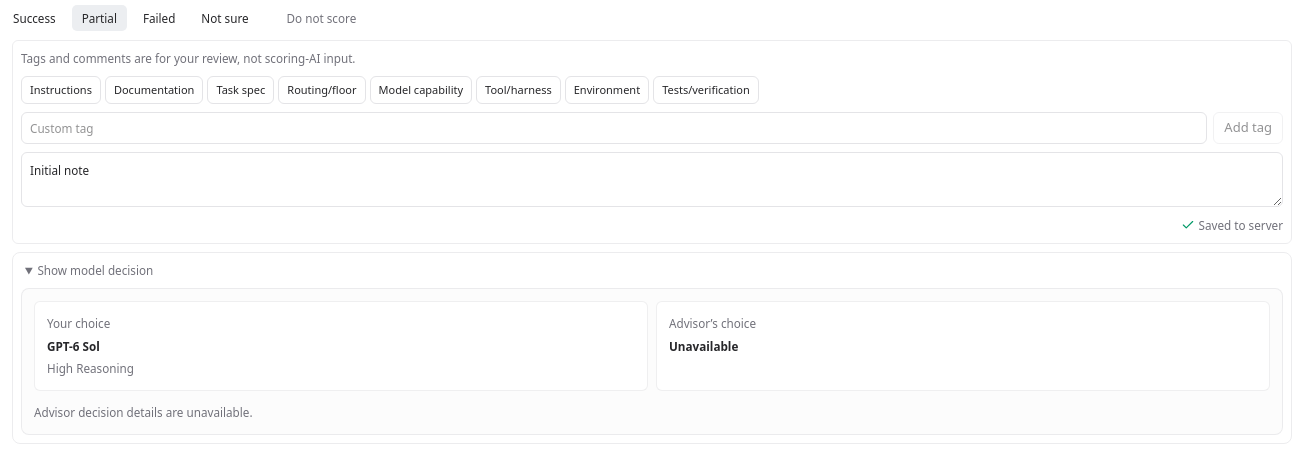
Scenario: hydrates saved reviews, autosaves tags and debounced comments without remounting the editor
This screenshot has width=1292, height=461.
Expected: the text box named "Task review comment" holds "Initial note", left=21, top=152, right=1283, bottom=207
Click the button "Tests/verification" at (706, 90), box left=653, top=76, right=759, bottom=104
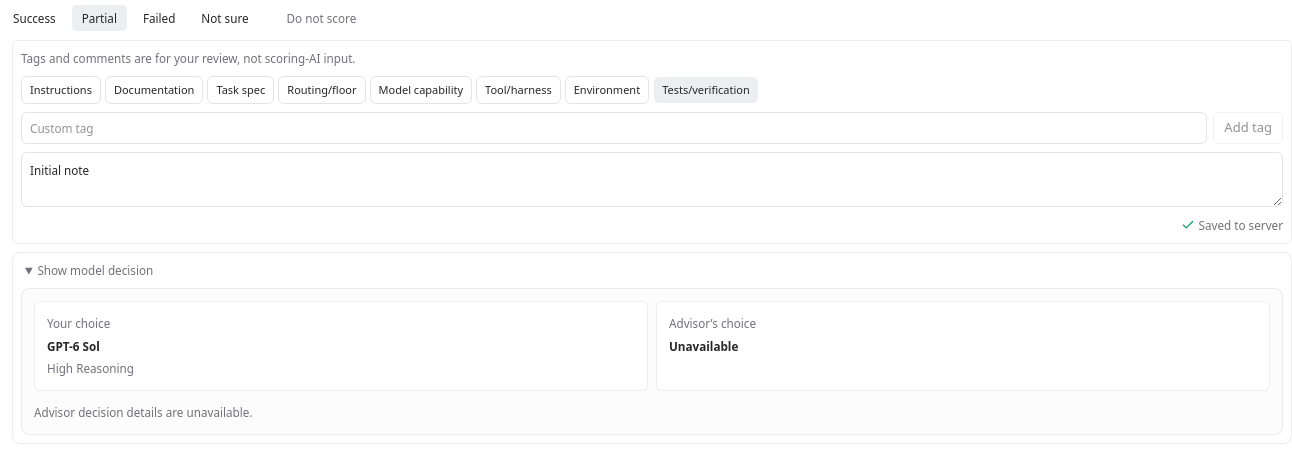
Replace the text in the text box named "Task review comment" with "First draft" at (652, 179), box left=21, top=152, right=1283, bottom=207
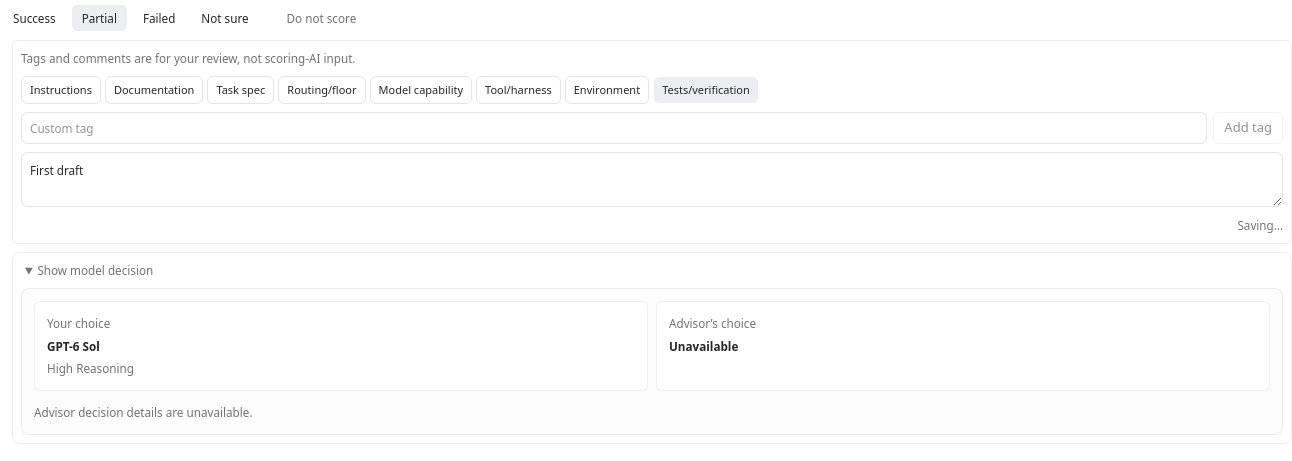
Replace the text in the text box named "Task review comment" with "  Final note  " at (652, 179), box left=21, top=152, right=1283, bottom=207
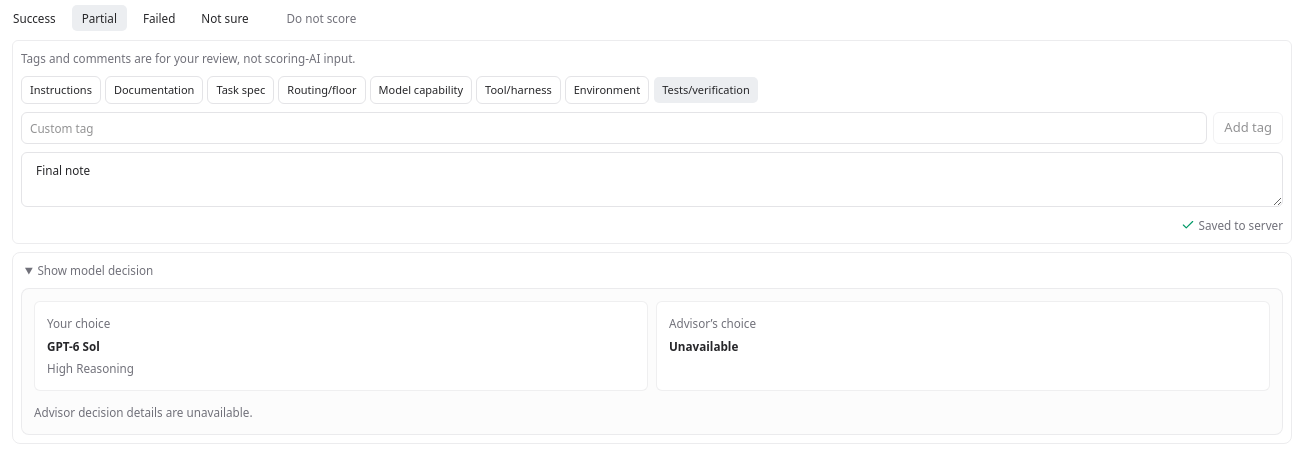
Now the message named "Feedback save status" shows "Saved", box left=1199, top=217, right=1283, bottom=233
